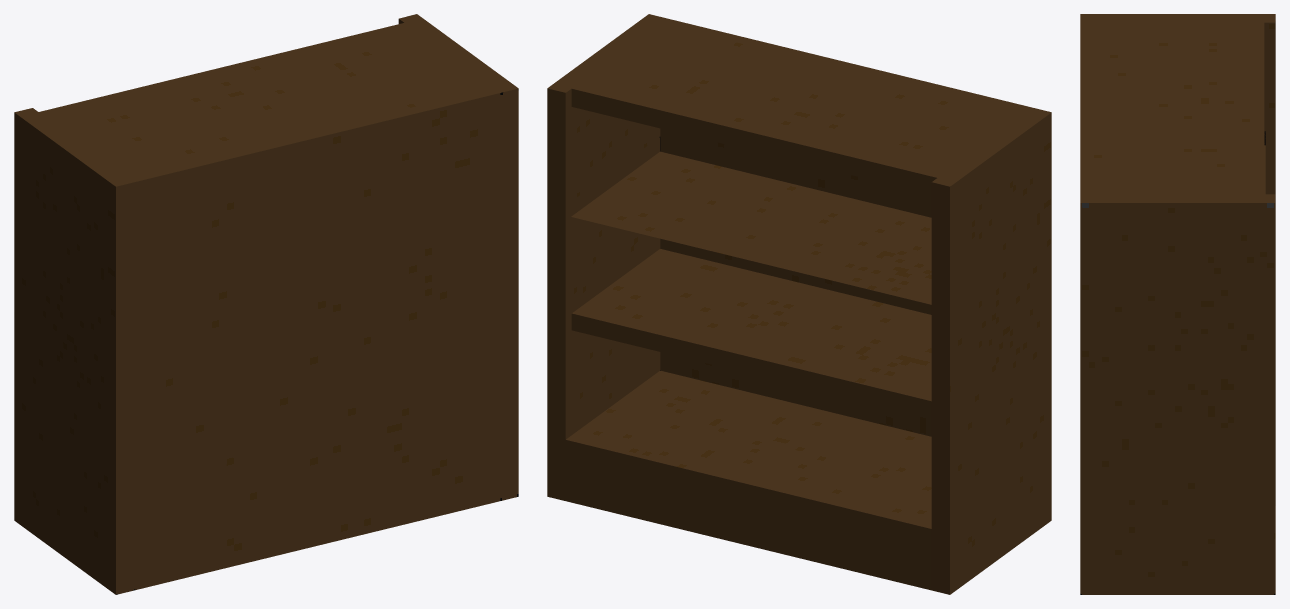
Rendered from bookshelf_wood.glb.
The picture shows the model from 3 angles, left to right: view 1: azimuth 30°, elevation 25°; view 2: azimuth 150°, elevation 25°; view 3: azimuth 270°, elevation 25°; orthographic projection. The views are drawn at different scales.
Visible parts, largest first — view 1: Cube; view 2: Cube; view 3: Cube.
Boxes of the visible parts, bbox=[...] form: Cube: bbox=[14, 14, 518, 594]; Cube: bbox=[547, 14, 1051, 594]; Cube: bbox=[1080, 14, 1275, 594].
Size of the model in its own units: 1.46 by 1.42 by 0.6393.
Materials: 1 (1 with a texture image).
